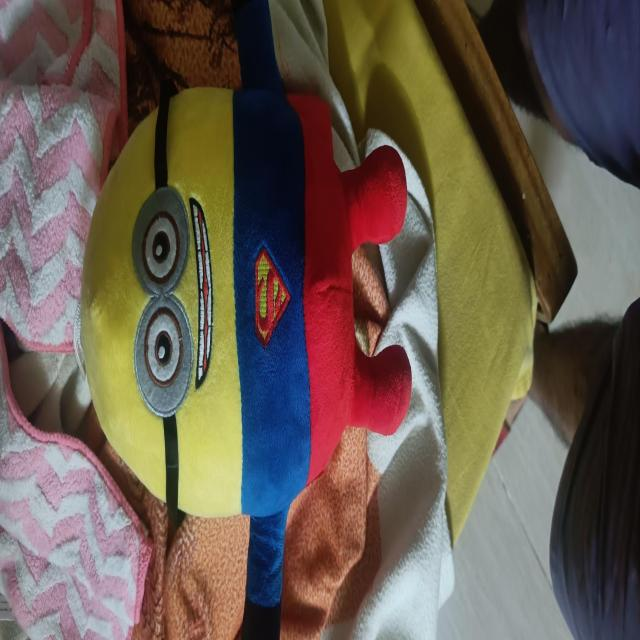minion: (81, 73, 426, 597)
